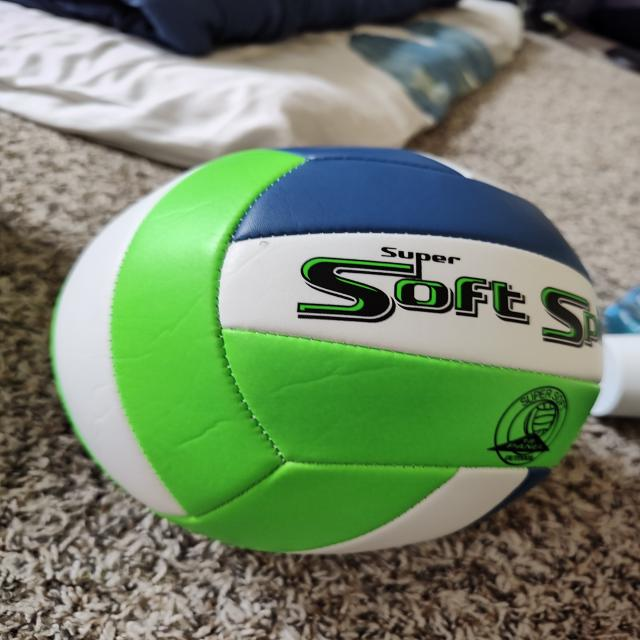ball: (49, 143, 596, 542)
